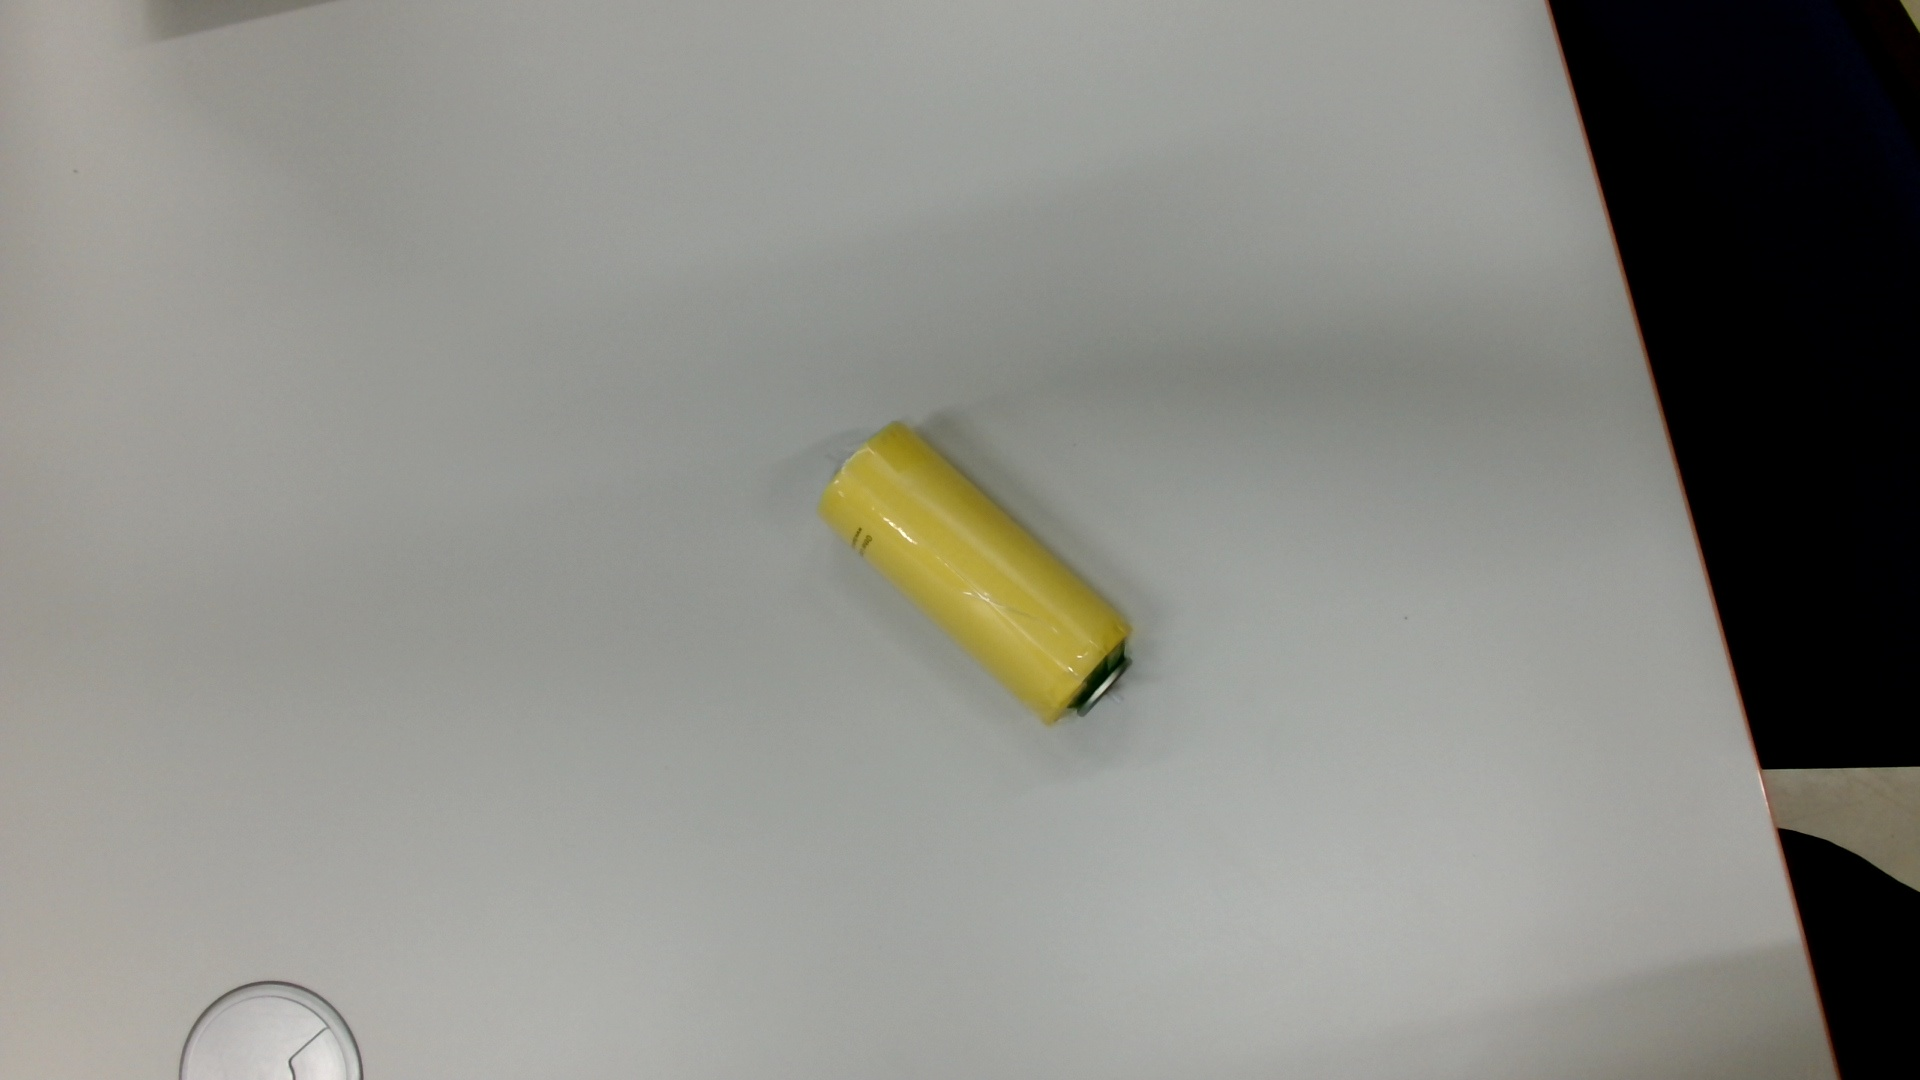Cylinder: (806, 413, 1153, 735)
